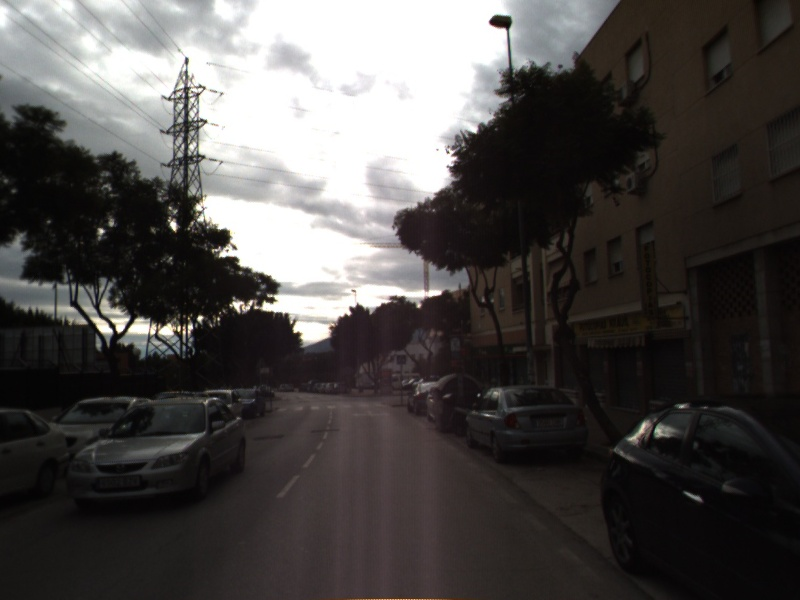STRAIGHT_LEFT_RIGHT: (349, 407, 393, 419)
